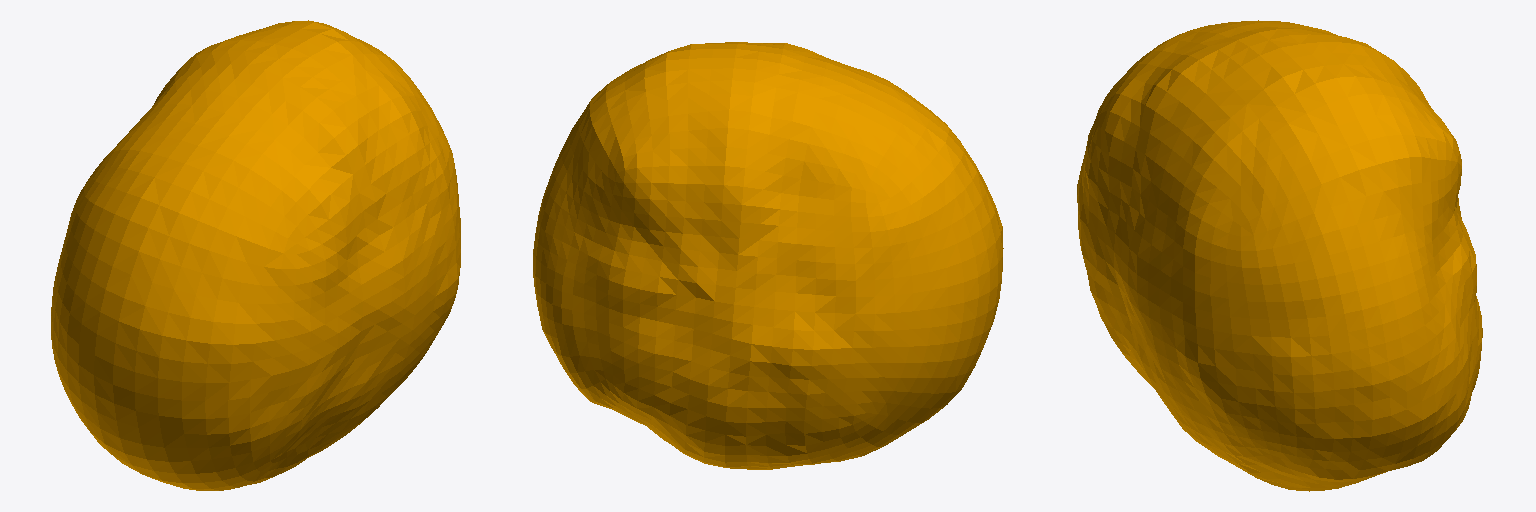
robot.urdf — rock:
<?xml version="1.0" ?>
<robot name="rock">
  <link name="rock">
    <inertial>
      <mass value="0.244"/>
      <origin rpy="0 0 0" xyz="0 0 0"/>
      <inertia ixx="0.000244" ixy="0" ixz="0" iyy="0.000244" iyz="0" izz="0.000244"/>
    </inertial>
    <collision name="rock_collision">
      <origin rpy="0 0 0" xyz="0 0 0"/>
      <geometry>
        <mesh filename="package://rocks/visual/126.dae" scale="1 1 1"/>
      </geometry>
    </collision>
    <visual name="rock_visual">
      <origin rpy="0 0 0" xyz="0 0 0"/>
      <geometry>
        <mesh filename="package://rocks/visual/126.dae" scale="1 1 1"/>
      </geometry>
    </visual>
  </link>
</robot>

--- Facts derived from the render (not from the file) ---
Views: 3 orthographic renders of the robot side by side, from view 1: azimuth 30°, elevation 25°; view 2: azimuth 150°, elevation 25°; view 3: azimuth 270°, elevation 25°.
Model rock with 1 links and 0 joints (none), rooted at rock, posed all joints at 0.
Visible links, largest first — view 1: rock; view 2: rock; view 3: rock.
Link boxes in pixels (x1=…): rock: x1=51, y1=20, x2=460, y2=490; rock: x1=533, y1=42, x2=1003, y2=469; rock: x1=1077, y1=20, x2=1482, y2=491.
Bounding box of the posed robot: 0.0688 × 0.0546 × 0.0657 m (x, y, z).
1 mesh visuals loaded from 1 distinct referenced files (1 Collada DAE).